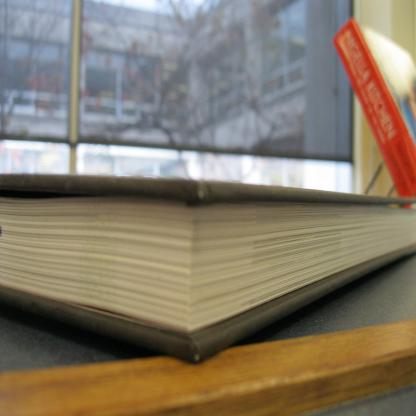book: (0, 169, 416, 367)
